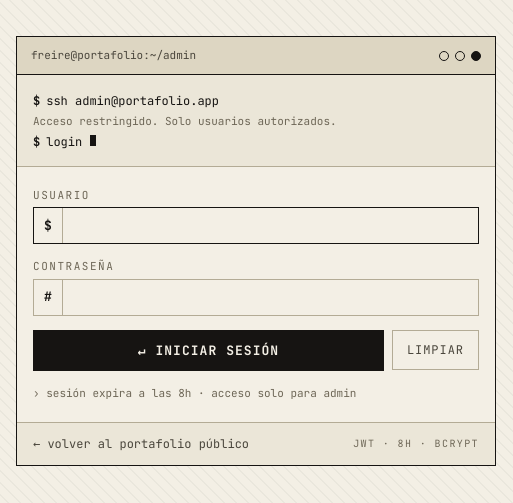
Test: LoginPage › credenciales inválidas → muestra el error y no navega
This screenshot has width=513, height=503.
Type "admin" into the field labelled "USUARIO" at (270, 226), box 63,208 -> 478,243
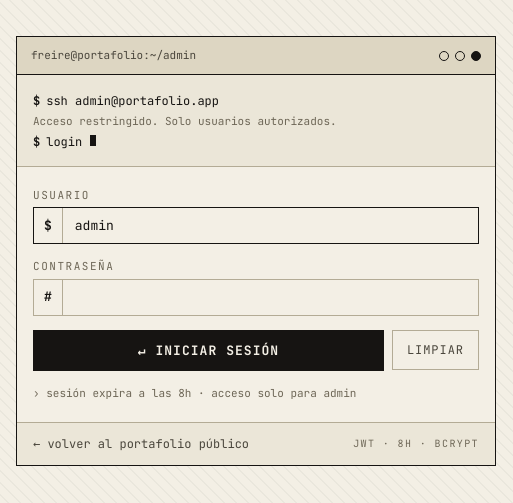
Type "wrong" into the password field labelled "CONTRASEÑA" at (270, 297), box 63,280 -> 478,315
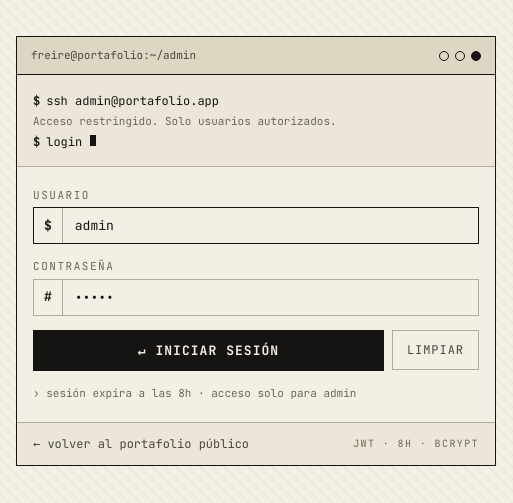
Click the button "↵ Iniciar sesión" at (208, 350), box 33,330 -> 384,371
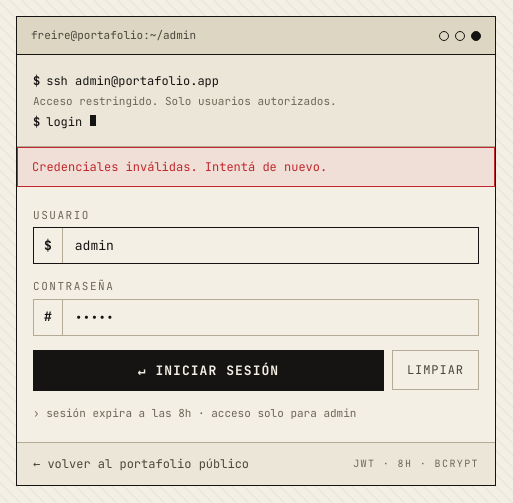
expect the message reads "Credenciales inválidas. Intentá de nuevo.": met, box 32,159 -> 327,175
